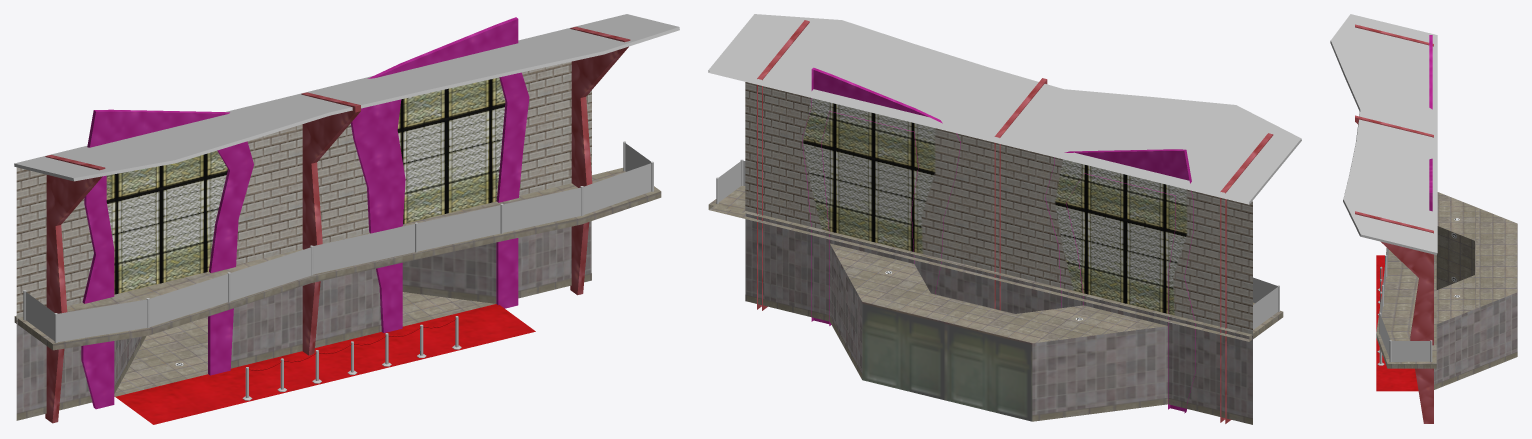
File: Danceclub.fbx
The picture shows the model from 3 angles, left to right: view 1: azimuth 30°, elevation 25°; view 2: azimuth 150°, elevation 25°; view 3: azimuth 270°, elevation 25°; orthographic projection. The views are drawn at different scales.
Visible parts, largest first — view 1: polySurface883, polySurface882; view 2: polySurface883, polySurface882; view 3: polySurface883, polySurface882.
Part boxes in pixels (<box>): polySurface883: <box>14,17,661,424</box>; polySurface882: <box>14,14,679,400</box>; polySurface883: <box>708,20,1283,424</box>; polySurface882: <box>708,14,1301,329</box>; polySurface883: <box>1355,24,1517,423</box>; polySurface882: <box>1330,14,1437,365</box>.
Bounding box in the file's own units: 2146 × 994 × 779.
